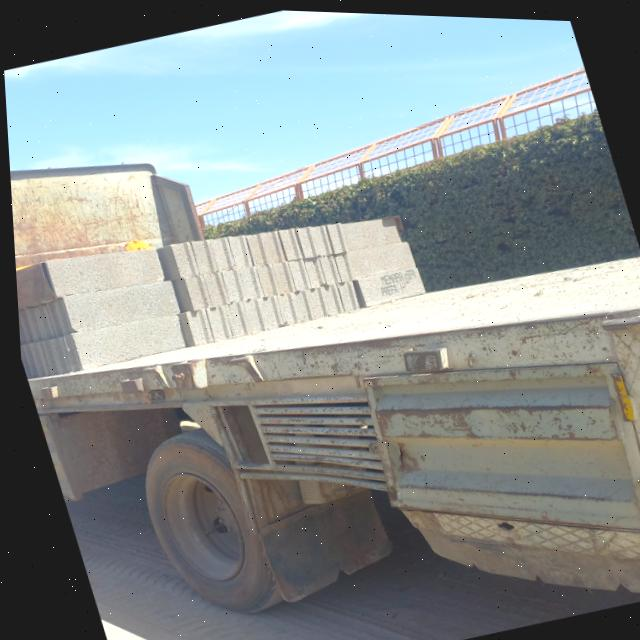bricks: (16, 216, 425, 378)
